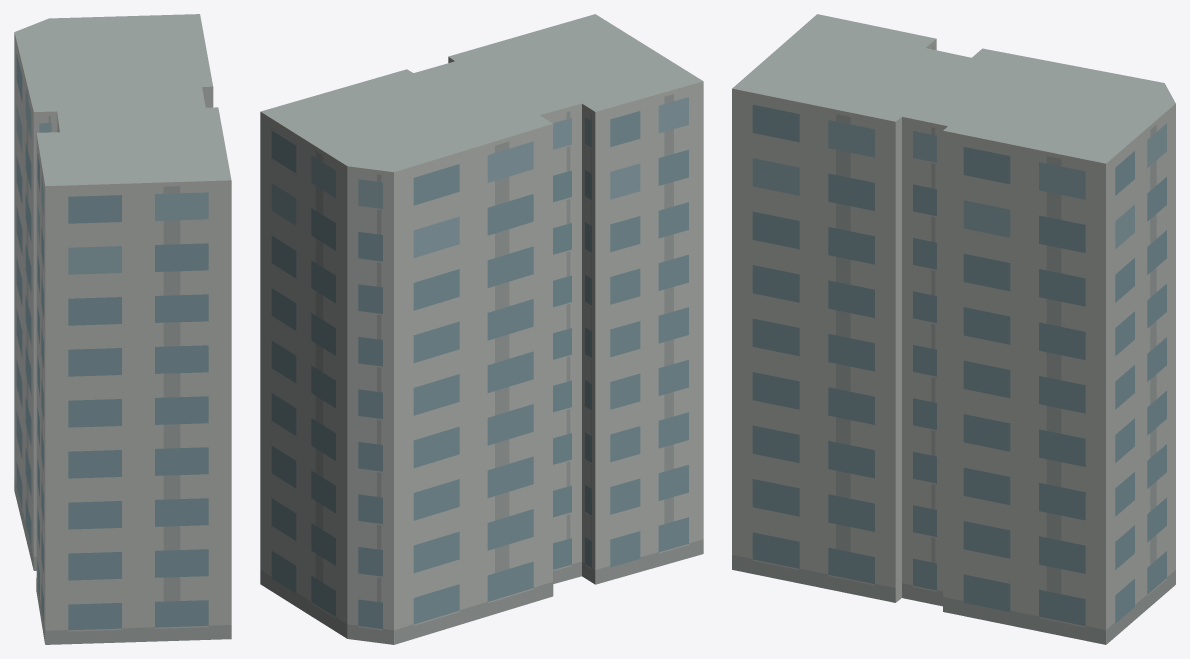
Rendered from survey-upis-33032733.glb.
3 views of the same model, side by side, from view 1: azimuth 30°, elevation 25°; view 2: azimuth 150°, elevation 25°; view 3: azimuth 270°, elevation 25° (orthographic). The views are drawn at different scales.
Visible parts, largest first — view 1: survey-upis-33032733.tmp; view 2: survey-upis-33032733.tmp; view 3: survey-upis-33032733.tmp.
Part boxes in pixels (x1=…): survey-upis-33032733.tmp: x1=14, y1=14, x2=231, y2=644; survey-upis-33032733.tmp: x1=260, y1=14, x2=703, y2=644; survey-upis-33032733.tmp: x1=732, y1=14, x2=1175, y2=644.
Bounding box in the file's own units: 18.09 × 27.1 × 22.66.
